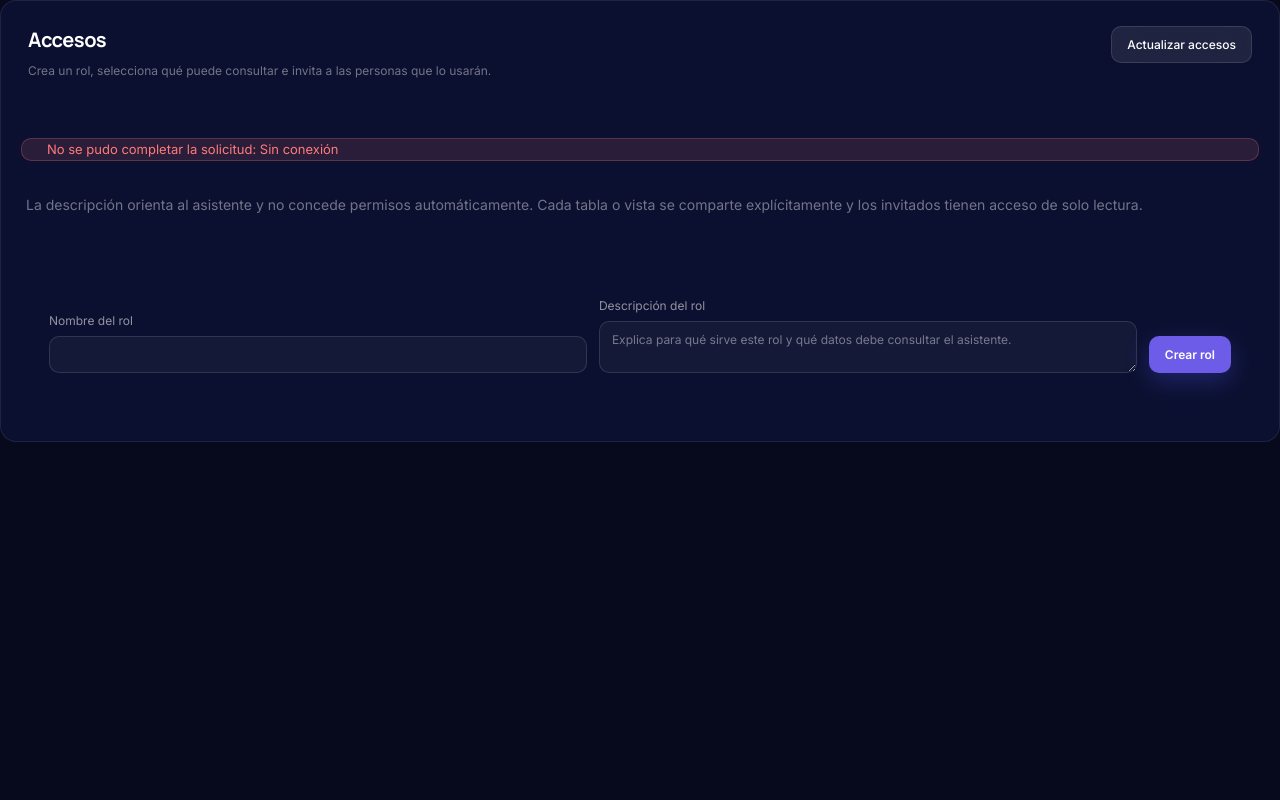
Test case: AccessPanel › permite reintentar una carga fallida sin mostrar datos inventados
Expected: the message shows "Sin conexión", top-left (260, 141), bottom-right (339, 157)
Click the button "Actualizar accesos".
click(1182, 44)  # box top-left (1111, 26), bottom-right (1252, 63)
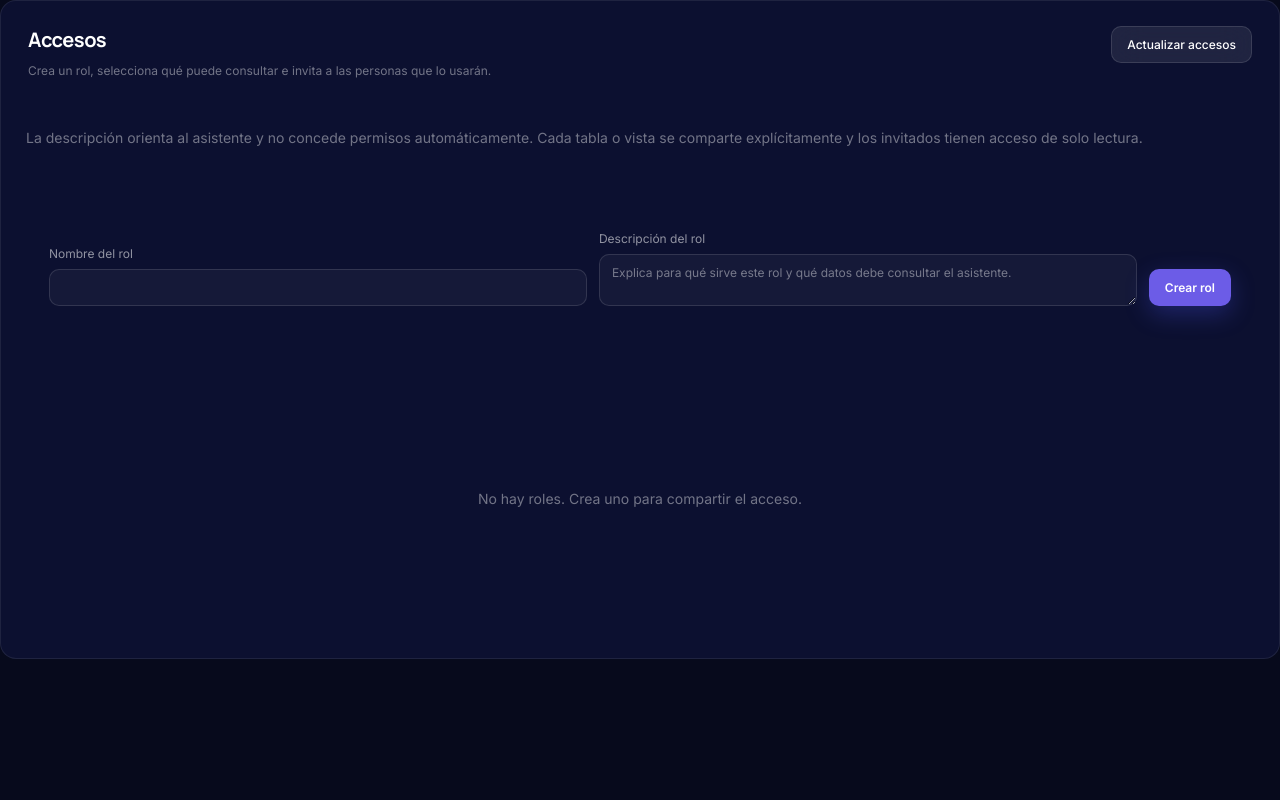
Expected: the text "No hay roles. Crea uno para compartir el acceso." is shown, top-left (478, 490), bottom-right (802, 507)
Expected: the message "No se pudo completar la solicitud: Sin conexión" is gone
